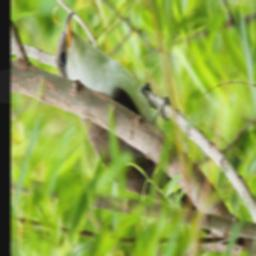Cuckoo: (54, 3, 211, 254)
